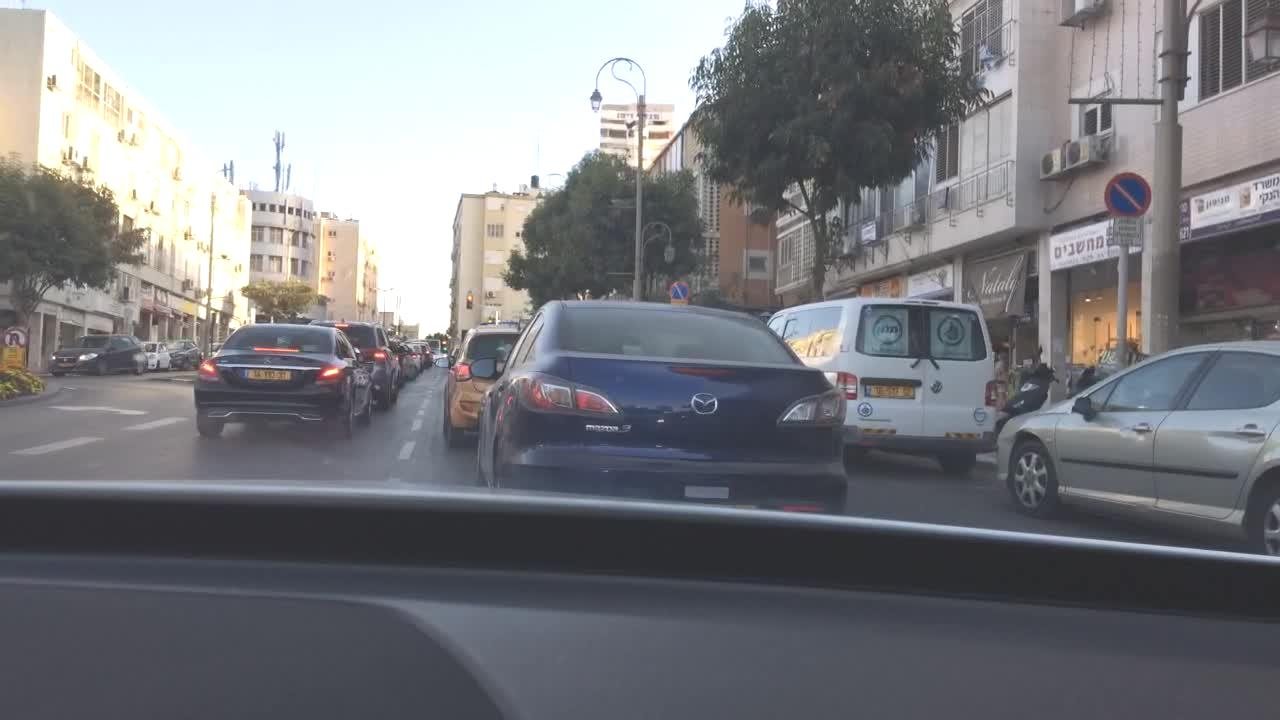Mazda: (687, 387, 726, 421)
Volkswagen: (929, 378, 947, 396)
